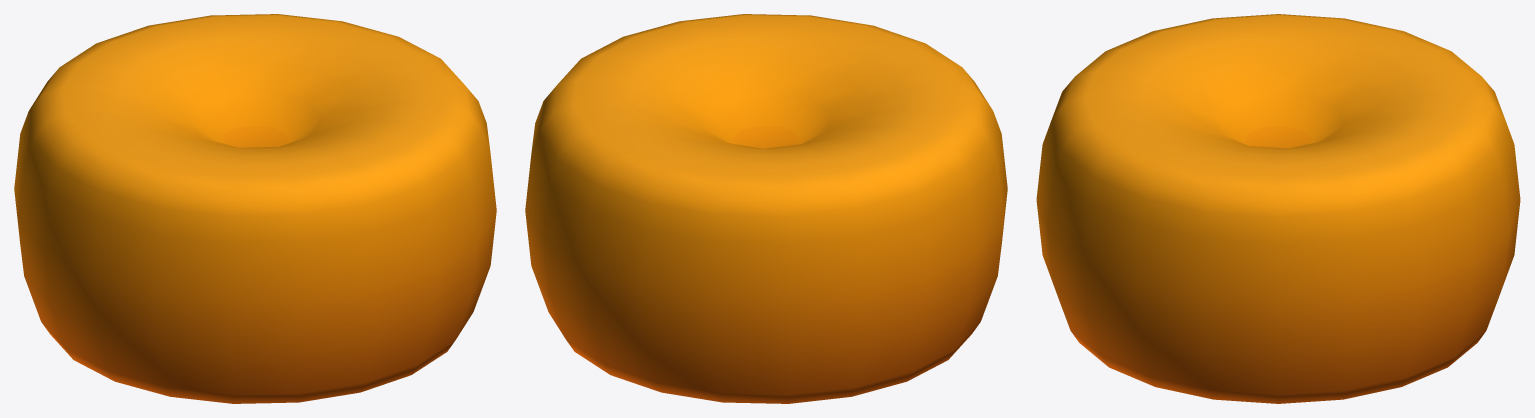
The model's file is Pouf_04.glb.
3 views of the same model, side by side, from view 1: azimuth 30°, elevation 25°; view 2: azimuth 150°, elevation 25°; view 3: azimuth 270°, elevation 25° (orthographic).
Parts seen in each view (by area): view 1: Pouf_04; view 2: Pouf_04; view 3: Pouf_04.
Boxes of the visible parts, x1,y1,x2,y2 form: Pouf_04: (14, 14, 496, 403); Pouf_04: (525, 14, 1007, 403); Pouf_04: (1036, 14, 1520, 403).
Size of the model in its own units: 0.7744 by 0.4003 by 0.7744.
1 material, 1 textured.
